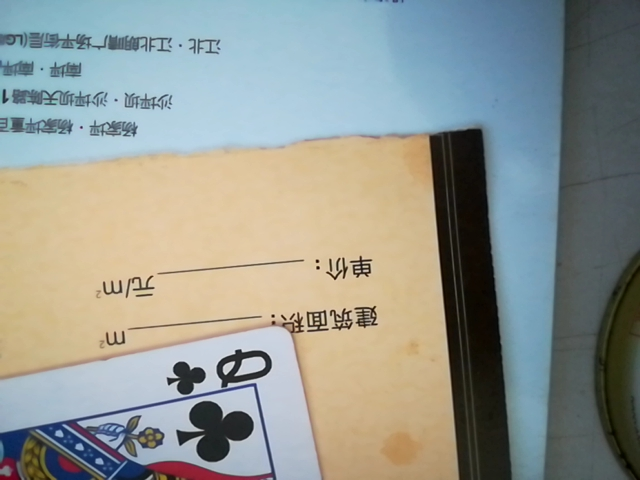mh q: (0, 326, 337, 477)
